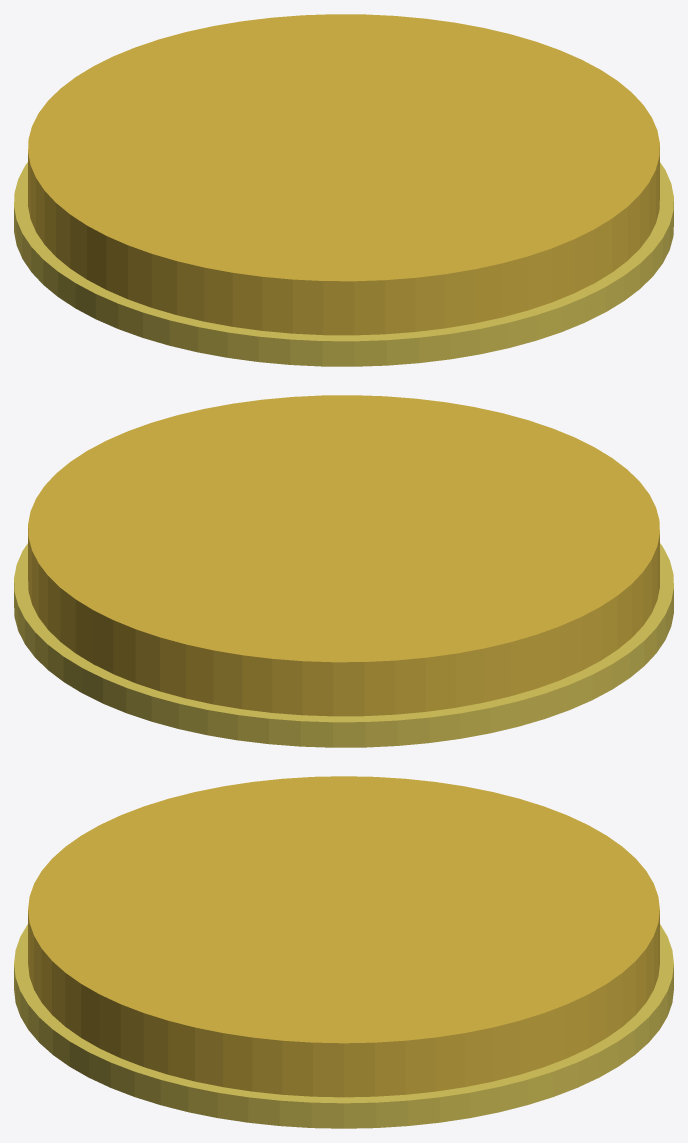
Rendered from collectible_rare_gold_troll_coin.glb.
3 renders of one model, top to bottom at view 1: azimuth 30°, elevation 25°; view 2: azimuth 150°, elevation 25°; view 3: azimuth 270°, elevation 25°, orthographic.
Visible parts, largest first — view 1: coin_disc, rim; view 2: coin_disc, rim; view 3: coin_disc, rim.
Boxes of the visible parts, box(x1,y1,x2,y2) form: coin_disc: box(28, 14, 659, 335); rim: box(14, 162, 673, 366); coin_disc: box(28, 395, 659, 716); rim: box(14, 543, 673, 747); coin_disc: box(28, 776, 659, 1097); rim: box(14, 924, 673, 1128).
Bounding box in the file's own units: 0.94 × 0.16 × 0.94.
